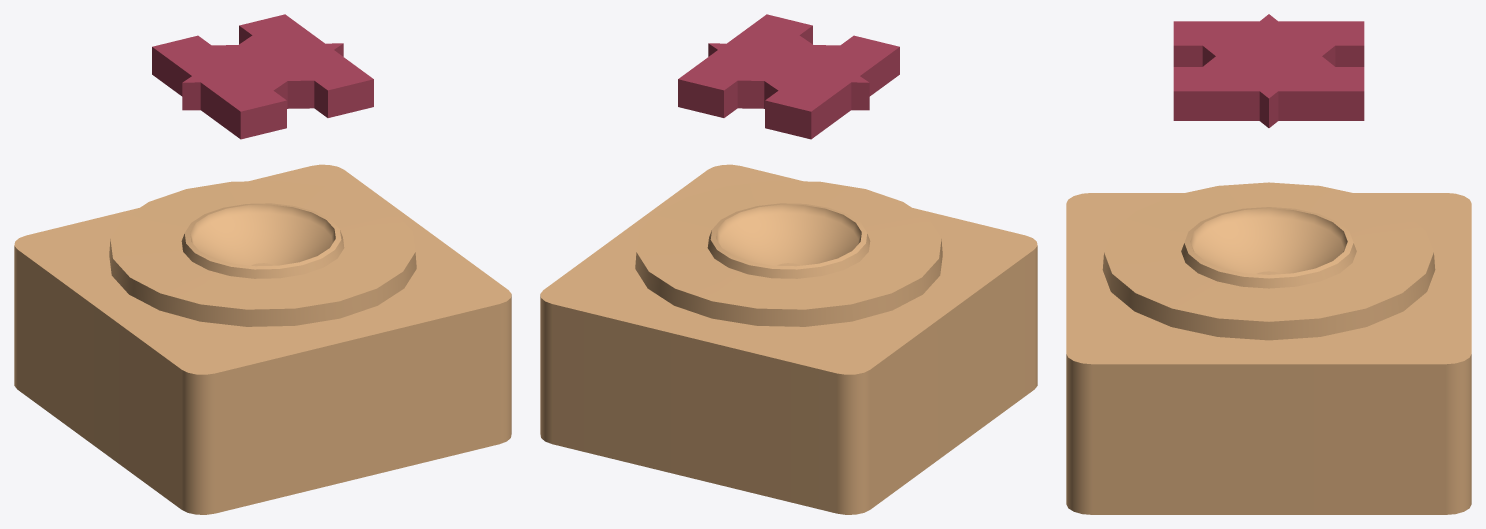
Rendered from Custom_Buttons.fbx.
The picture shows the model from 3 angles, left to right: view 1: azimuth 30°, elevation 25°; view 2: azimuth 150°, elevation 25°; view 3: azimuth 270°, elevation 25°; orthographic projection. The views are drawn at different scales.
Visible parts, largest first — view 1: Emergency_Stop_Plate, Custom_EmergencyStop.L, Custom_EmergencyStop_Pause, Custom_EmergencyStop.R; view 2: Emergency_Stop_Plate, Custom_EmergencyStop.L, Custom_EmergencyStop_Pause, Custom_EmergencyStop.R; view 3: Emergency_Stop_Plate, Custom_EmergencyStop_Pause, Custom_EmergencyStop.L, Custom_EmergencyStop.R.
Part boxes in pixels (x1,y1,x2,y2): Emergency_Stop_Plate: [14, 164, 511, 514]; Custom_EmergencyStop.L: [182, 15, 371, 110]; Custom_EmergencyStop_Pause: [152, 14, 373, 139]; Custom_EmergencyStop.R: [154, 43, 343, 110]; Emergency_Stop_Plate: [540, 164, 1037, 514]; Custom_EmergencyStop.L: [680, 15, 869, 110]; Custom_EmergencyStop_Pause: [678, 14, 899, 139]; Custom_EmergencyStop.R: [708, 43, 897, 110]; Emergency_Stop_Plate: [1066, 182, 1471, 514]; Custom_EmergencyStop_Pause: [1173, 21, 1364, 120]; Custom_EmergencyStop.L: [1174, 14, 1363, 90]; Custom_EmergencyStop.R: [1174, 22, 1363, 127].
Size of the model in its own units: 12.76 by 12.95 by 12.76.
